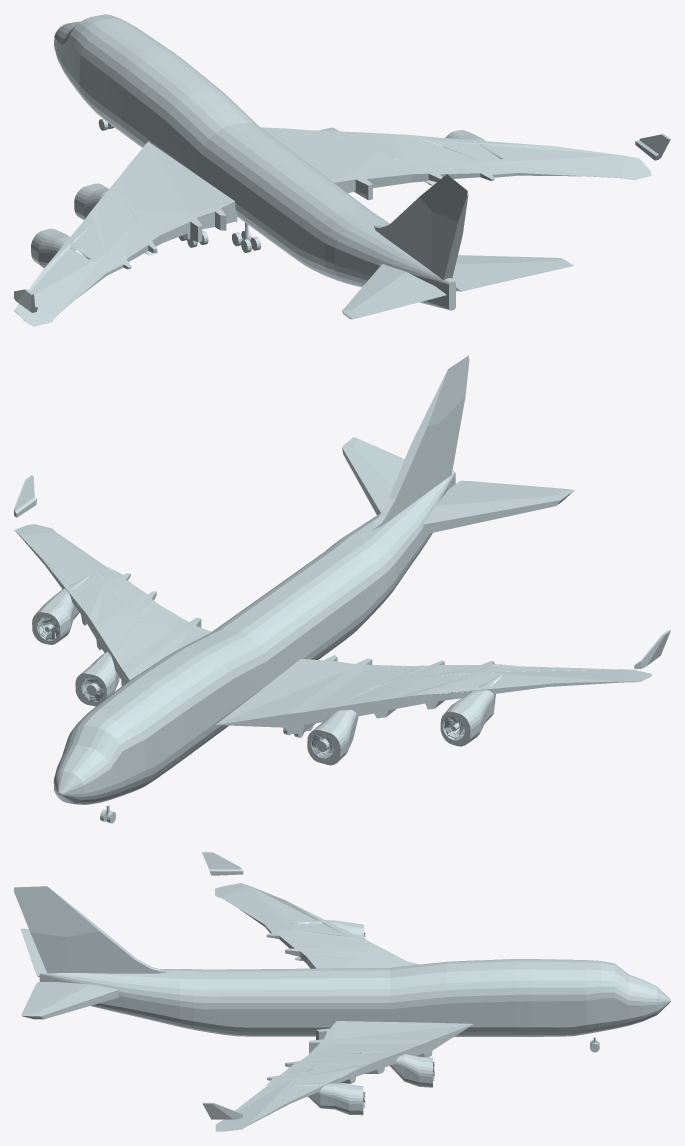
3 views of the same model, one above another, from view 1: azimuth 30°, elevation 25°; view 2: azimuth 150°, elevation 25°; view 3: azimuth 270°, elevation 25° (orthographic). The views are drawn at different scales.
Visible parts, largest first — view 1: Aircraft visual hull, Landing gear; view 2: Aircraft visual hull; view 3: Aircraft visual hull.
Boxes of the visible parts, x1=… form: Aircraft visual hull: x1=14, y1=14, x2=670, y2=326; Landing gear: x1=98, y1=118, x2=261, y2=252; Aircraft visual hull: x1=14, y1=355, x2=670, y2=804; Aircraft visual hull: x1=14, y1=852, x2=670, y2=1131.
Size of the model in its own units: 63.82 by 19.46 by 70.54.
